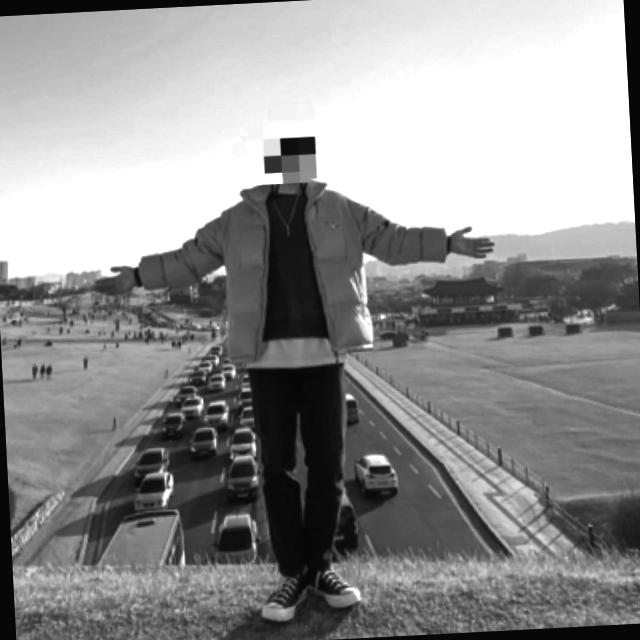denimpants: (244, 350, 354, 577)
padding: (131, 166, 451, 370)
